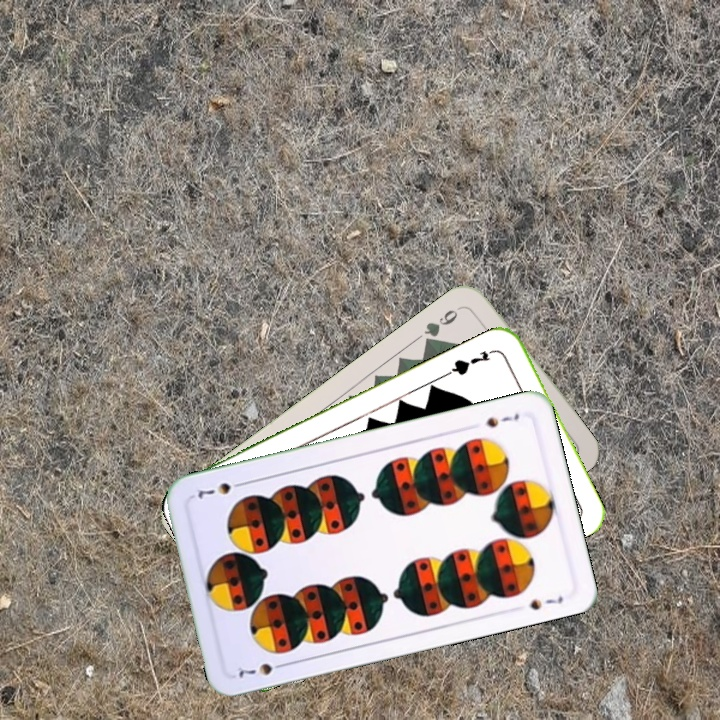G7: (444, 345, 500, 378)
G9: (420, 301, 467, 347)
S7: (231, 659, 290, 681), (481, 409, 522, 430)
